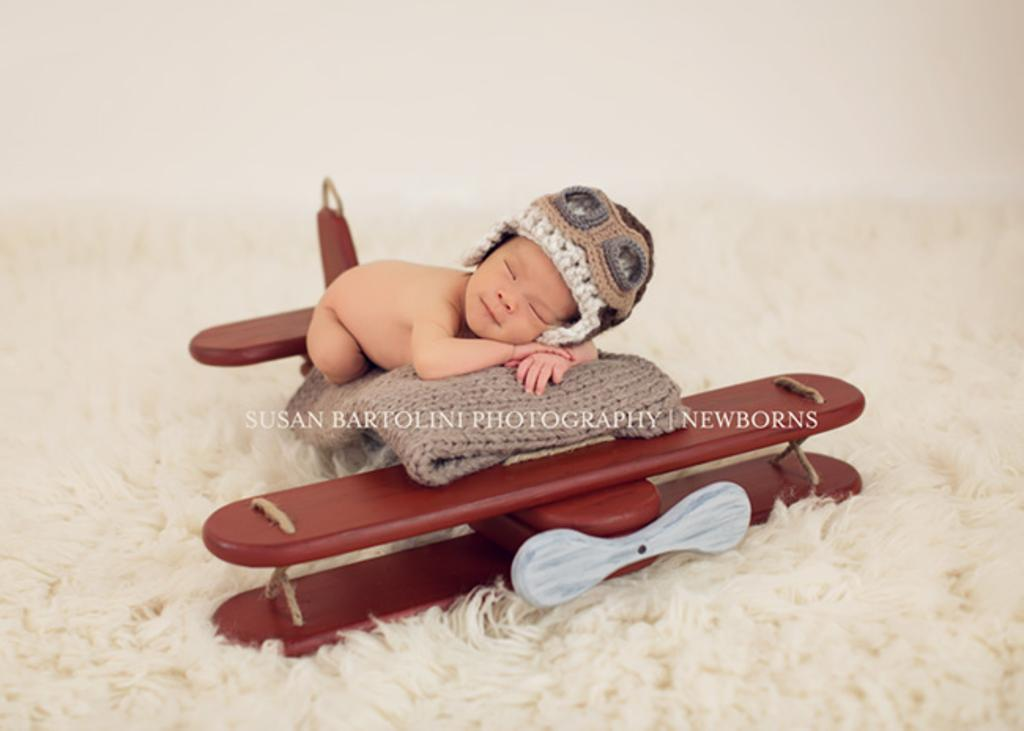face: (469, 251, 591, 339)
